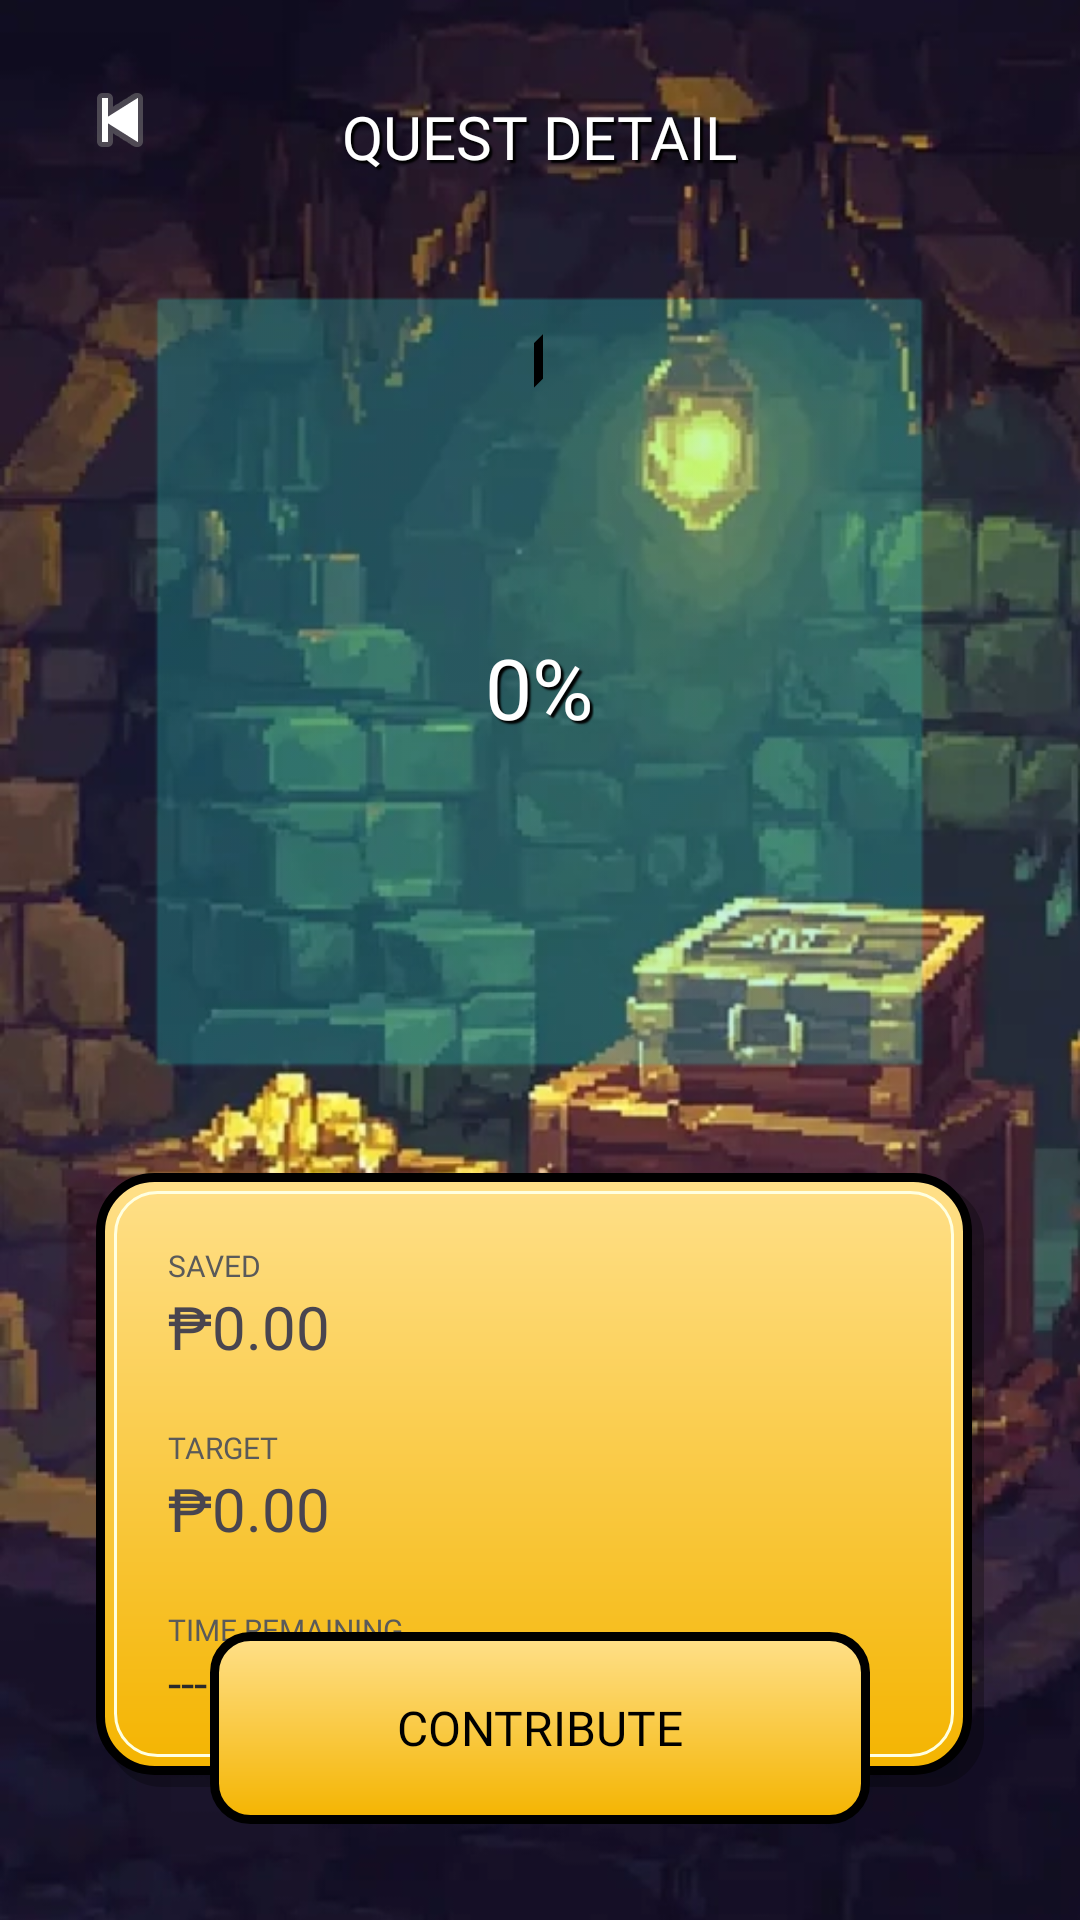

Where to tap for icons on this 1080 × 1920 app screen, as (x,y):
Back: (120,120)
